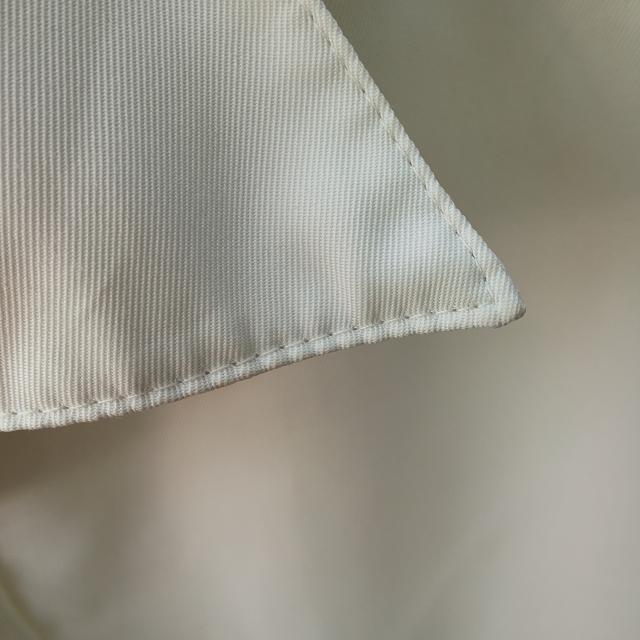education_male_uniform: (0, 12, 568, 476)
